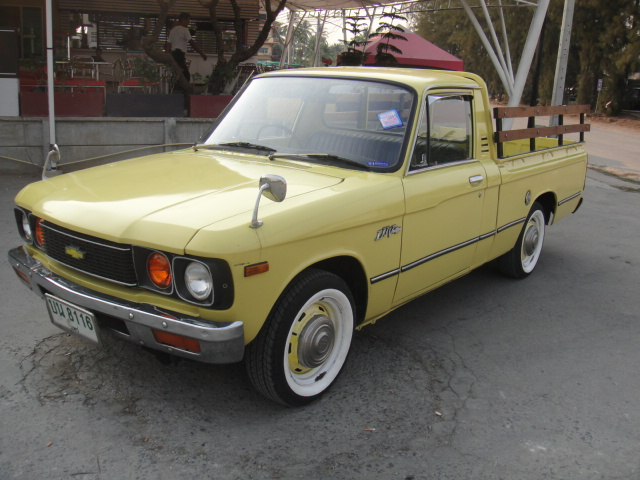pickup: (7, 66, 594, 408)
